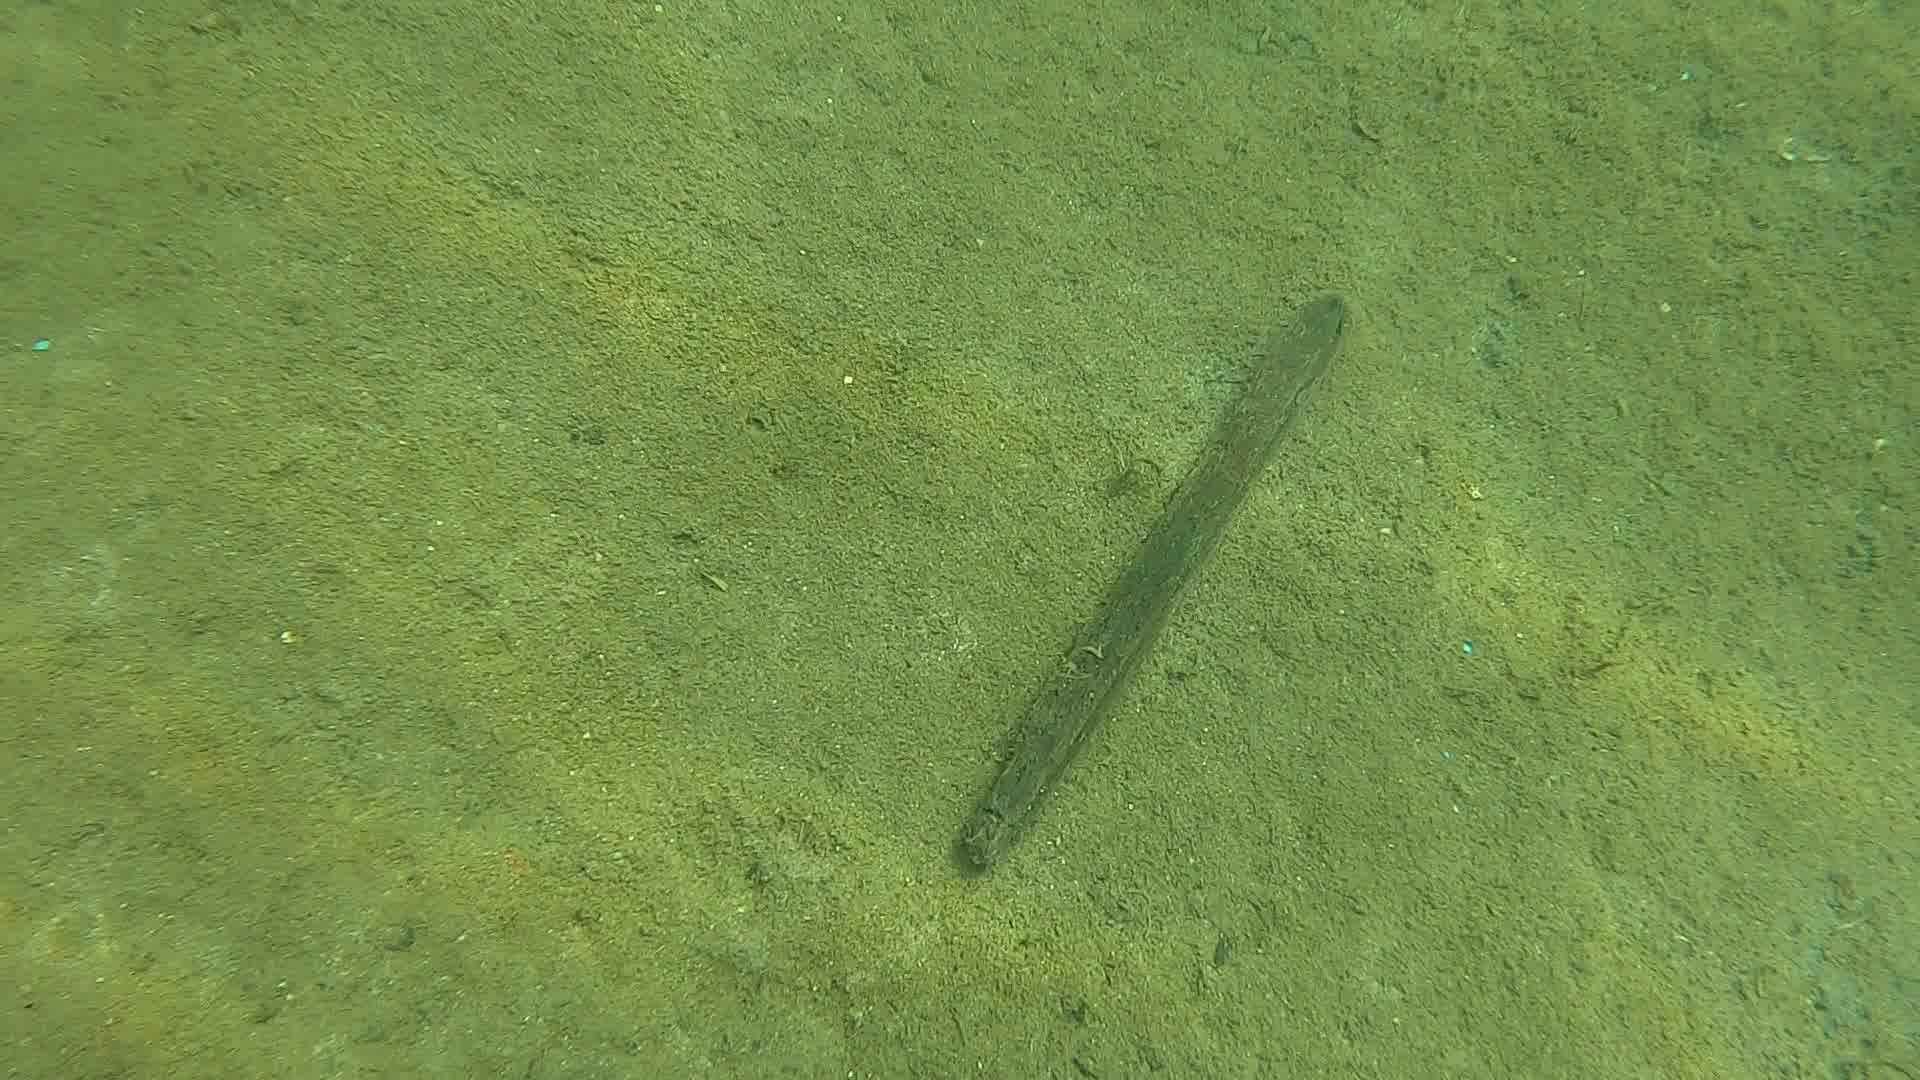wood: (955, 291, 1348, 873)
